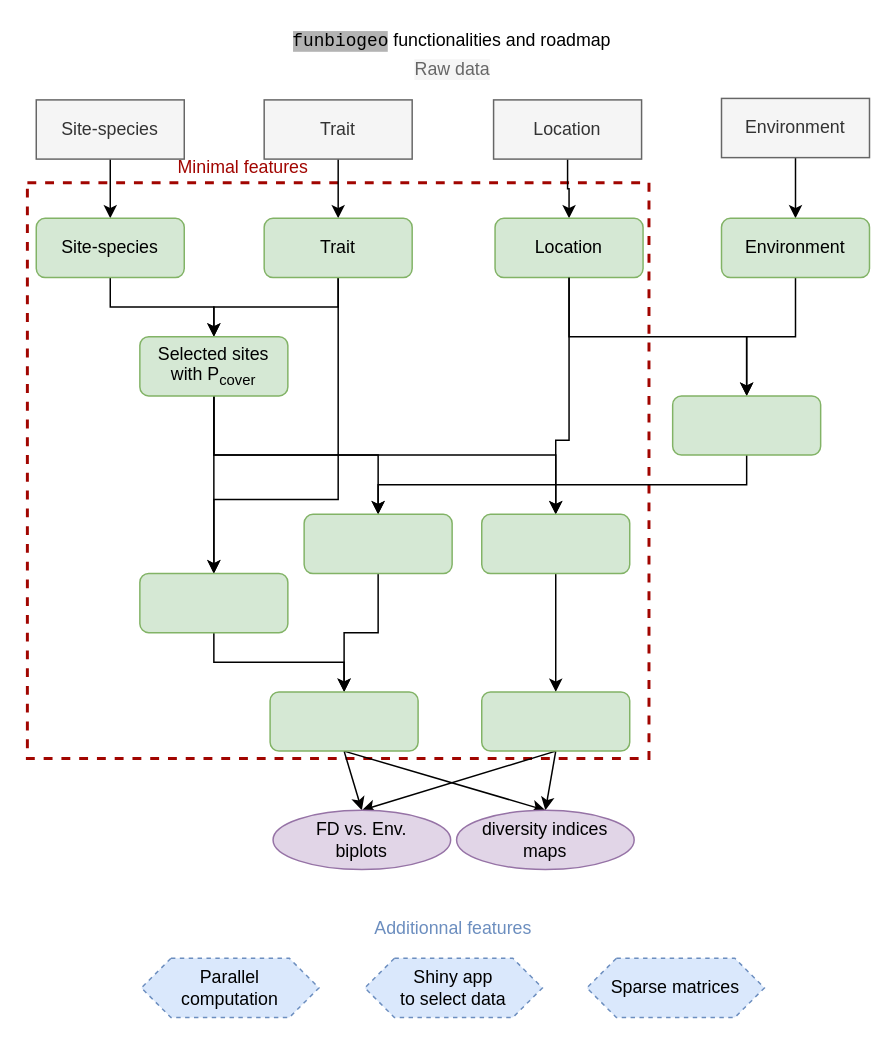
This 895x1043 diagram has some shape labels left out. Here are the shapes that lost their labels. From the top down, the centre of each, then its label:
At point 746,424: "Location environment".
At point 377,543: "Site Avg. Environment".
At point 555,543: "Upscaled communities".
At point 213,602: "Site functional diversity indices".
At point 343,720: "Environment vs. diversity indices".
At point 555,720: "Upscaled comm. diversity indices".
